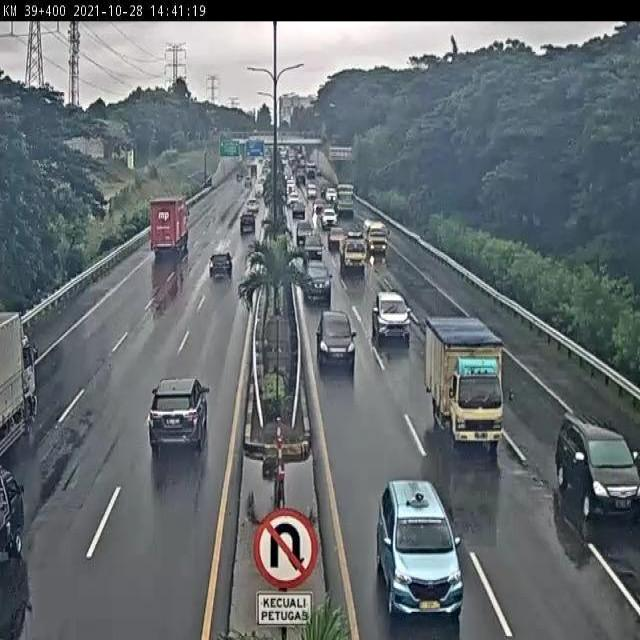car: (375, 477, 463, 615), (553, 417, 640, 519), (148, 376, 209, 455), (314, 303, 352, 361), (371, 293, 410, 344), (304, 258, 332, 302), (208, 250, 232, 278)
mid truck: (146, 200, 186, 257)
truck-m-: (425, 315, 505, 448)
